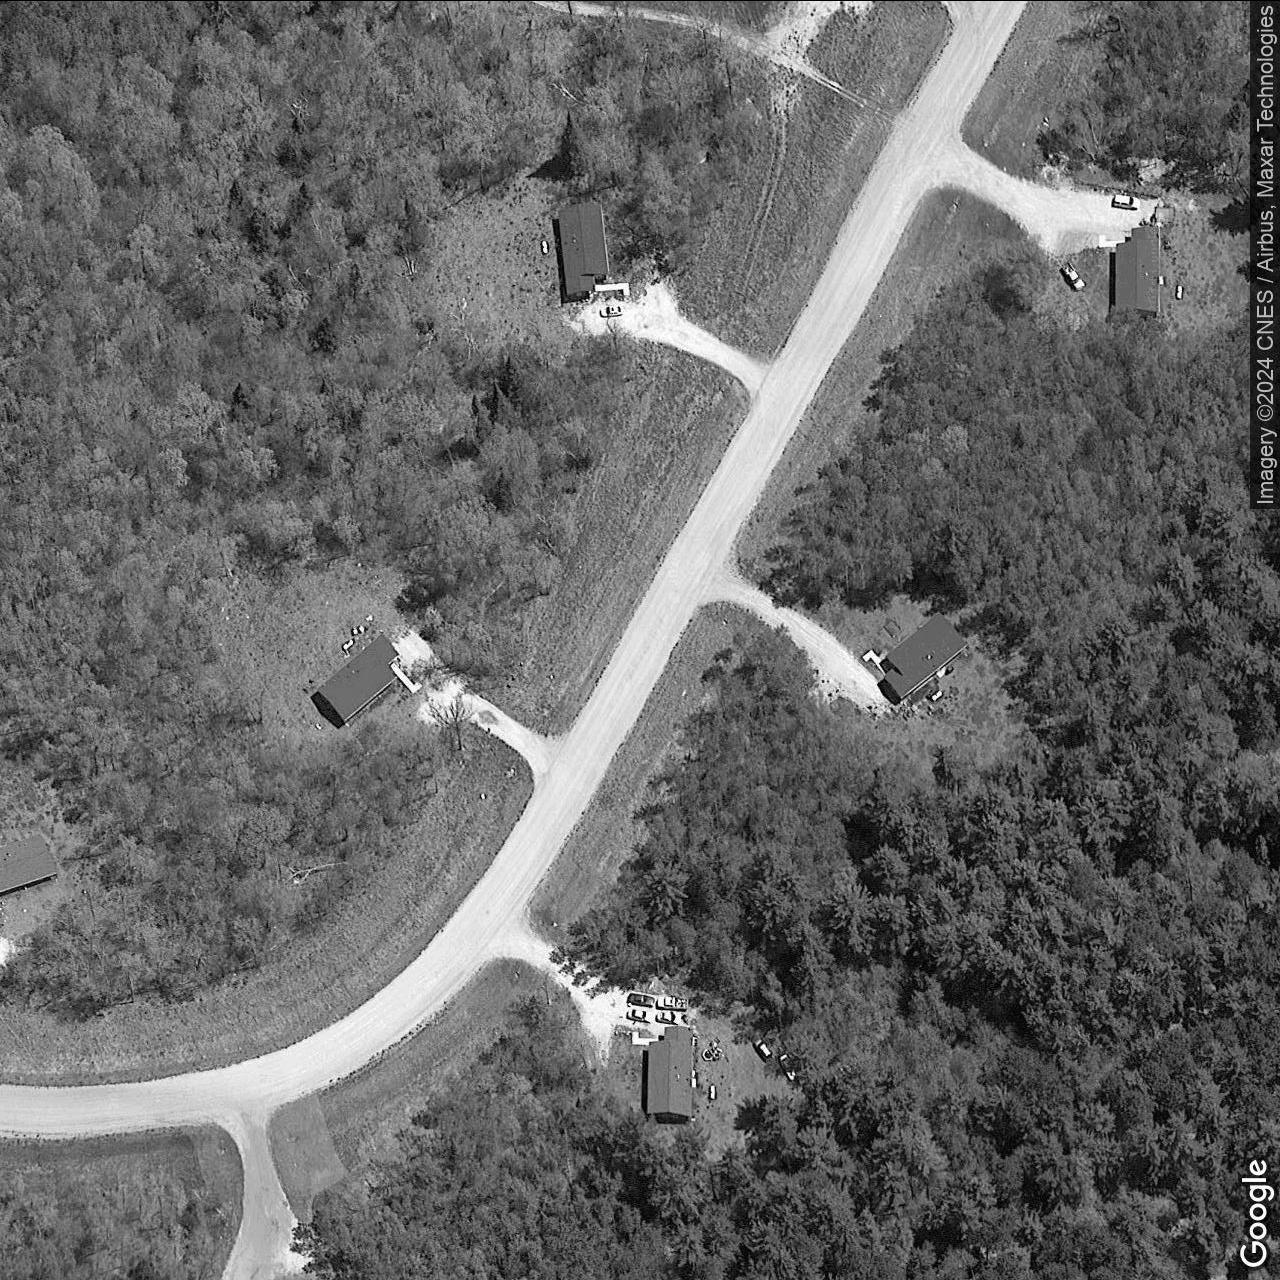House: (883, 610, 968, 699), (315, 633, 401, 722), (556, 200, 610, 294), (646, 1026, 693, 1117), (1115, 224, 1160, 315), (0, 832, 57, 891)
Propane: (928, 688, 944, 703), (341, 636, 356, 652), (538, 238, 550, 254), (1173, 282, 1184, 300), (707, 1083, 716, 1101)
